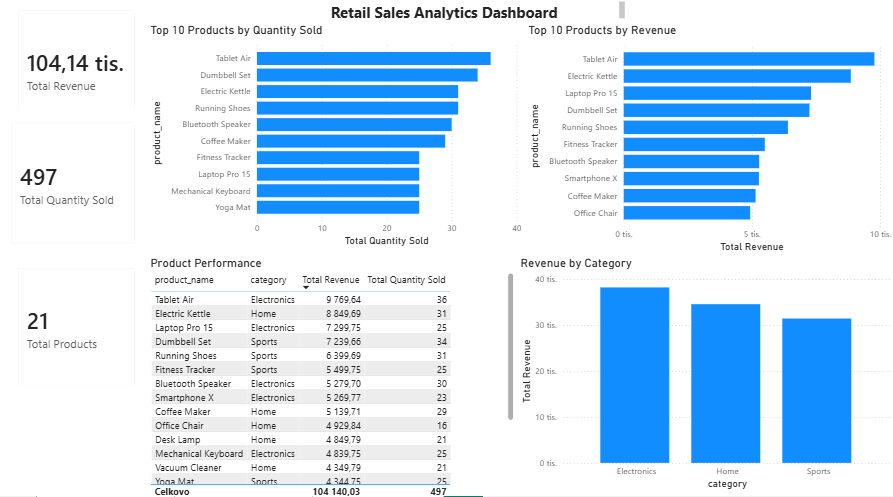

This screenshot's page, from the dashboard's own definition file:
{"tool":"powerbi","page":{"name":"Product Analysis","canvas":[1280,720],"ordinal":2},"visuals":[{"type":"cardVisual","fields":{"Data":["public order_items.Total Revenue"]},"box":[10,0,201.4,201.4],"z":0},{"type":"cardVisual","fields":{"Data":["Calendar.Total Quantity Sold"]},"box":[0,160,211.4,208.6],"z":1000},{"type":"cardVisual","fields":{"Data":["Calendar.Total Products"]},"box":[10,368.6,201.4,202.9],"z":2000},{"type":"clusteredBarChart","title":"Top 10 Products by Revenue","fields":{"Category":["public products.product_name"],"Y":["public order_items.Total Revenue"]},"box":[751.4,35.7,528.6,332.9],"z":3000},{"type":"clusteredColumnChart","title":"Revenue by Category","fields":{"Category":["public products.category"],"Y":["public order_items.Total Revenue"]},"box":[740,368.6,540,338.6],"z":4000},{"type":"clusteredBarChart","title":"Top 10 Products by Quantity Sold","fields":{"Category":["public products.product_name"],"Y":["Calendar.Total Quantity Sold"]},"box":[211.4,35.7,540,324.3],"z":4001},{"type":"tableEx","title":"Product Performance","fields":{"Values":["public products.product_name","public products.category","public order_items.Total Revenue","Calendar.Total Quantity Sold"]},"box":[211.4,368.6,528.6,351.4],"z":4002},{"type":"textbox","box":[380,0,518.6,35.7],"z":4003}]}

Visuals, with their boxes in screenshot pixels (x1, y1, x2, y2), scaled from the page's 1280x720 canvas onto the 893x497 screenshot:
cardVisual - public order_items.Total Revenue: detection(7, 0, 147, 139)
cardVisual - Calendar.Total Quantity Sold: detection(0, 110, 147, 254)
cardVisual - Calendar.Total Products: detection(7, 254, 147, 394)
"Top 10 Products by Revenue" clusteredBarChart: detection(524, 25, 892, 254)
"Revenue by Category" clusteredColumnChart: detection(516, 254, 892, 488)
"Top 10 Products by Quantity Sold" clusteredBarChart: detection(147, 25, 524, 248)
"Product Performance" tableEx: detection(147, 254, 516, 496)
textbox: detection(265, 0, 627, 25)
